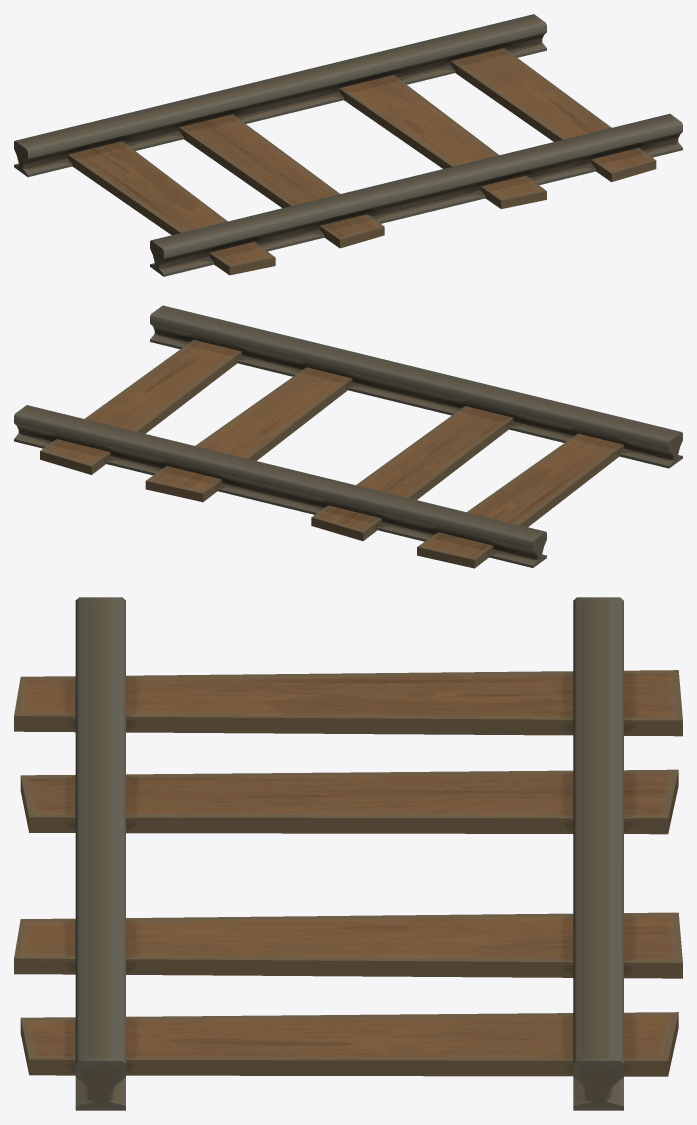
Rendered from SM_rails.glb.
3 renders of one model, top to bottom at view 1: azimuth 30°, elevation 25°; view 2: azimuth 150°, elevation 25°; view 3: azimuth 270°, elevation 25°, orthographic. The views are drawn at different scales.
Visible parts, largest first — view 1: SM_rails; view 2: SM_rails; view 3: SM_rails.
Boxes of the visible parts, bbox=[...] form: SM_rails: bbox=[14, 14, 682, 276]; SM_rails: bbox=[14, 305, 682, 568]; SM_rails: bbox=[14, 597, 682, 1110].
Bounding box in the file's own units: 3 × 0.15 × 1.83.
Materials: 1 (1 with a texture image).
